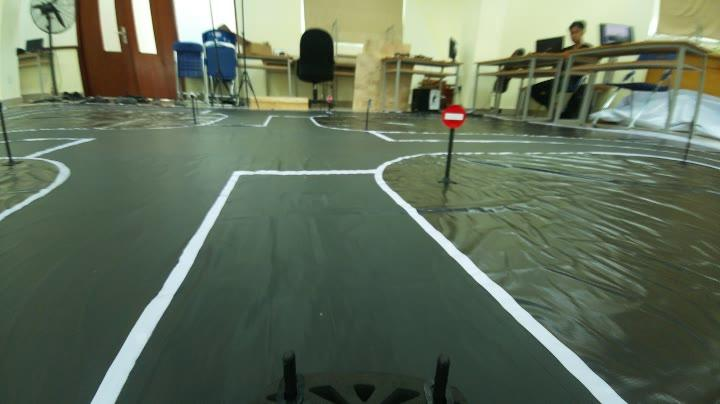no_entry: (436, 100, 470, 133)
